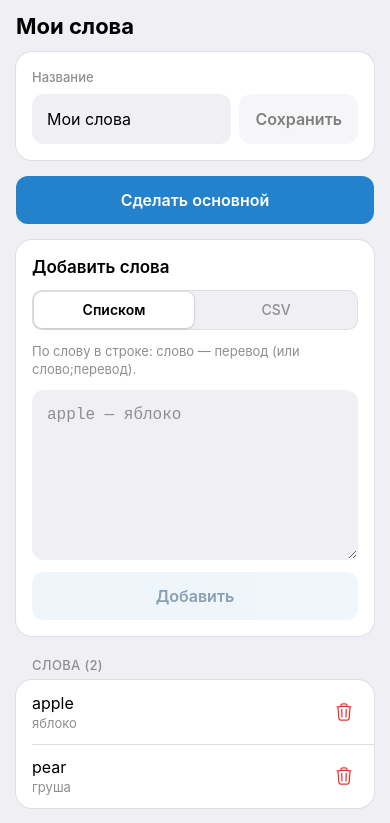
Test: DeckEditView › adding words › the word limit › does not open the paywall for a Pro learner: it explains the size of a deck, under the button they pressed
The width and height of the screenshot is (390, 823).
Type "plum — слива" into the text box with test id "text-input" at (195,475), box x1=32 y1=390 x2=358 y2=560
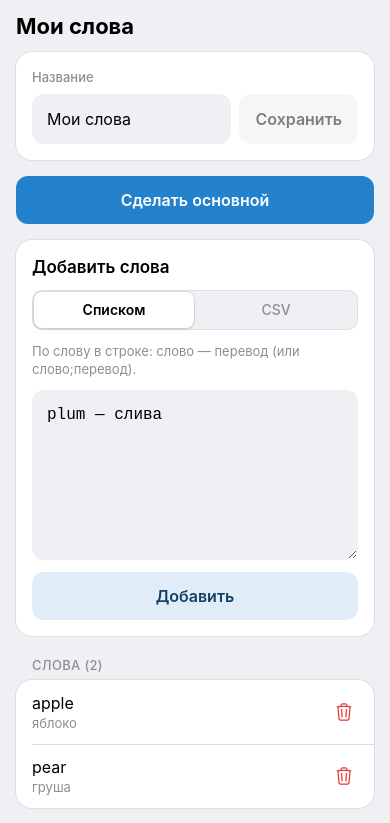
Click the button with test id "add-btn" at (195,596), box x1=32 y1=572 x2=358 y2=620
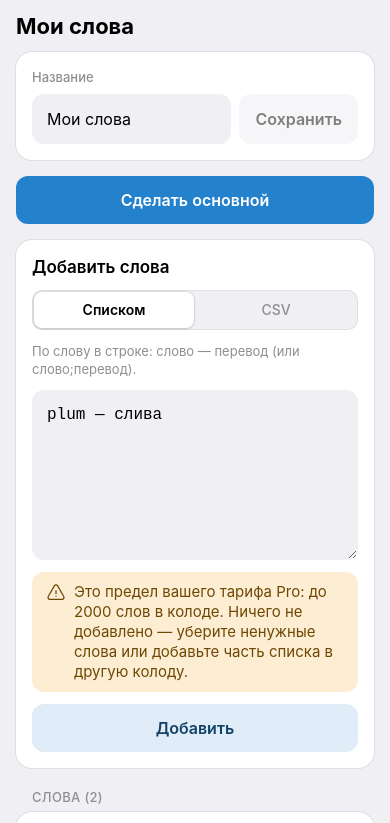
Check: the message with test id "pro-limit" shows "Это предел вашего тарифа Pro: до 2000 слов в колоде. Ничего не добавлено — уберите ненужные слова или добавьте часть списка в другую колоду.", box x1=74 y1=582 x2=333 y2=681
